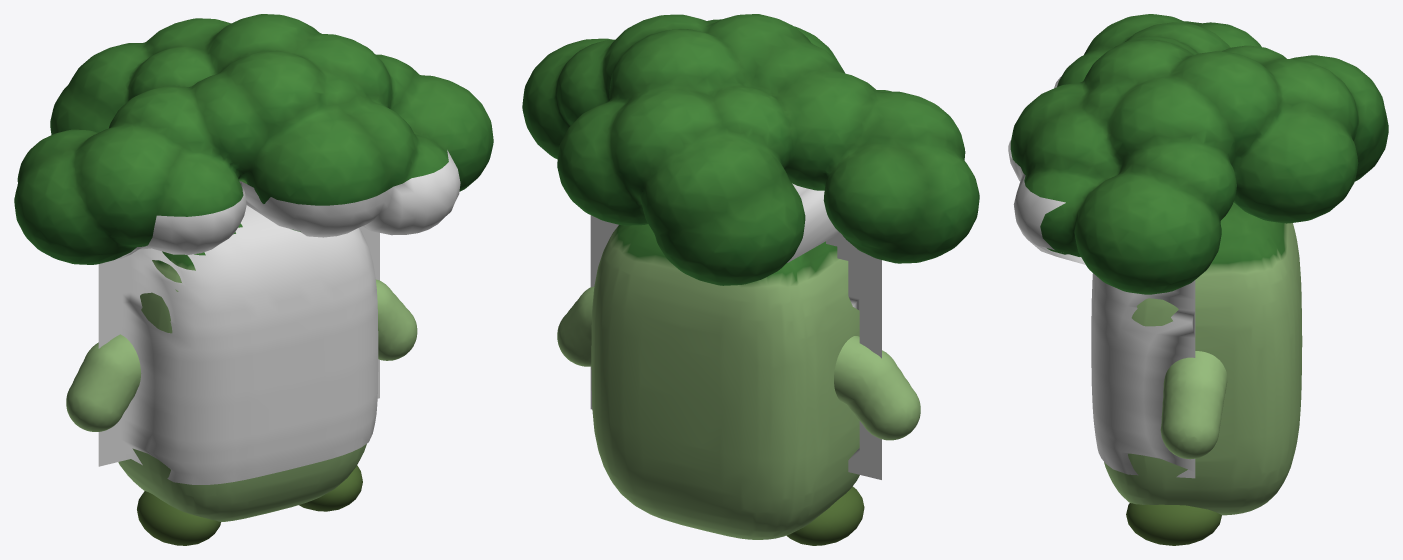
Rendered from folk2_stalk.glb.
3 renders of one model, left to right at view 1: azimuth 30°, elevation 25°; view 2: azimuth 150°, elevation 25°; view 3: azimuth 270°, elevation 25°, orthographic. The views are drawn at different scales.
Visible parts, largest first — view 1: stalk_body, stalk_face, stalk_arm_l, stalk_foot_l, stalk_arm_r, stalk_foot_r; view 2: stalk_body, stalk_face, stalk_arm_l, stalk_foot_l, stalk_arm_r; view 3: stalk_body, stalk_face, stalk_arm_r, stalk_foot_r.
Boxes of the visible parts, x1=… form: stalk_body: x1=14, y1=14, x2=493, y2=522; stalk_face: x1=98, y1=150, x2=460, y2=484; stalk_arm_l: x1=66, y1=334, x2=141, y2=431; stalk_foot_l: x1=137, y1=491, x2=220, y2=545; stalk_arm_r: x1=375, y1=279, x2=417, y2=360; stalk_foot_r: x1=299, y1=465, x2=362, y2=511; stalk_body: x1=522, y1=14, x2=979, y2=539; stalk_face: x1=590, y1=183, x2=881, y2=479; stalk_arm_l: x1=834, y1=336, x2=920, y2=440; stalk_foot_l: x1=786, y1=486, x2=864, y2=545; stalk_arm_r: x1=557, y1=286, x2=594, y2=366; stalk_body: x1=1010, y1=14, x2=1388, y2=515; stalk_face: x1=1008, y1=76, x2=1195, y2=478; stalk_arm_r: x1=1160, y1=351, x2=1227, y2=459; stalk_foot_r: x1=1126, y1=503, x2=1221, y2=545.
Size of the model in its own units: 0.8178 by 0.8406 by 0.619.
